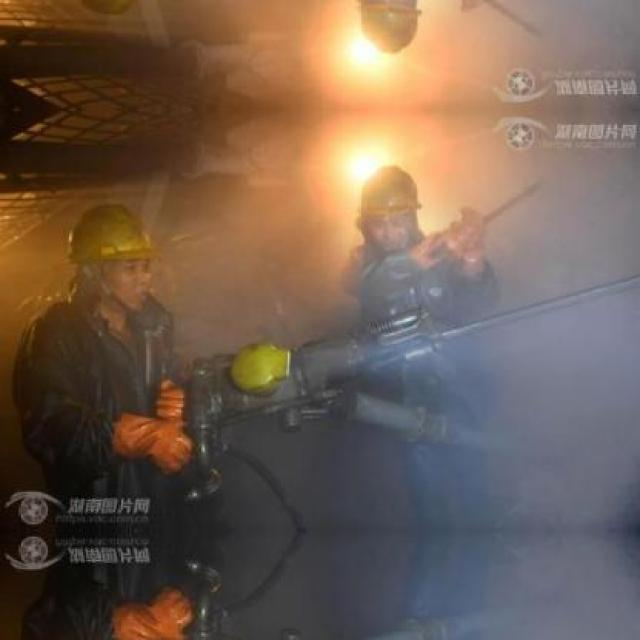helmet: (65, 204, 157, 310), (349, 154, 423, 258), (349, 0, 425, 65)
